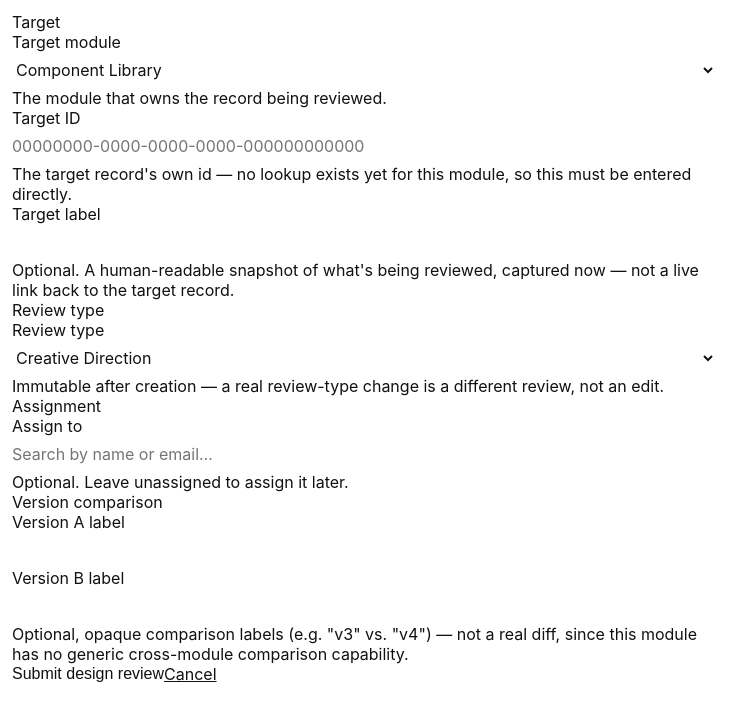
Test case: DesignReviewForm › shows the backend's error message and does not navigate on a failed submit
Type "22222222-2222-2222-2222-222222222222" into the field labelled "Target ID" at [364, 146], box [12,128,716,164]
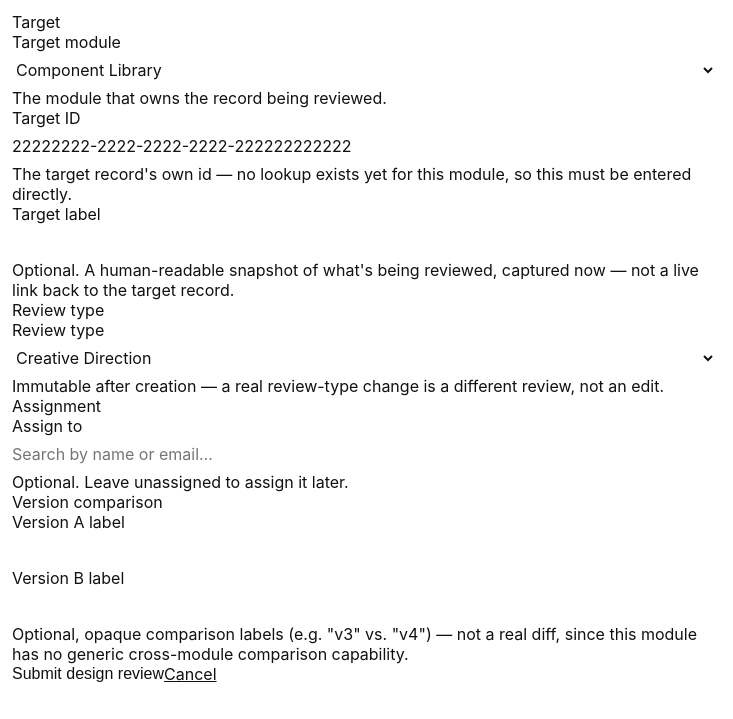
Click the button "Submit design review" at [88, 674], box [12,665,164,683]
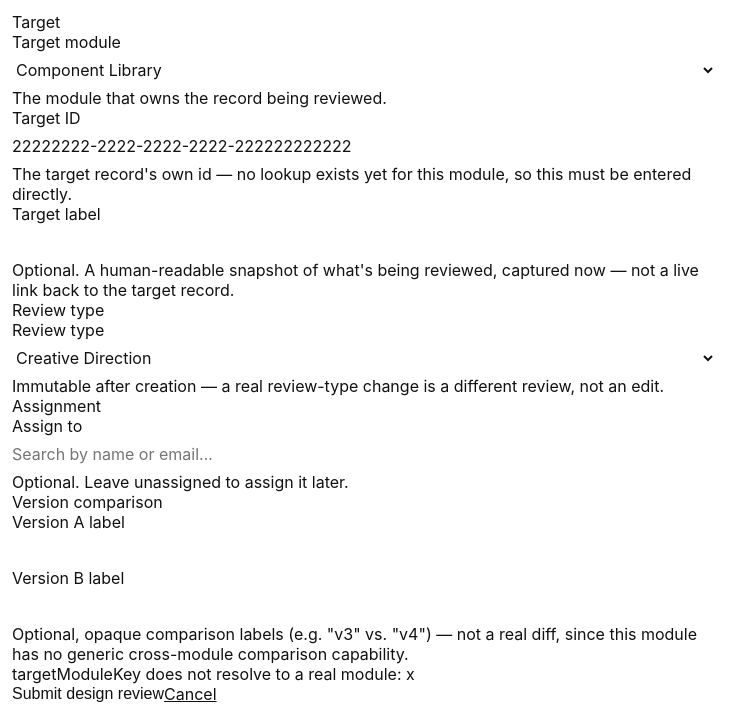
expect the message reads "targetModuleKey does not resolve to a real module: x": met, box [12,664,415,684]
